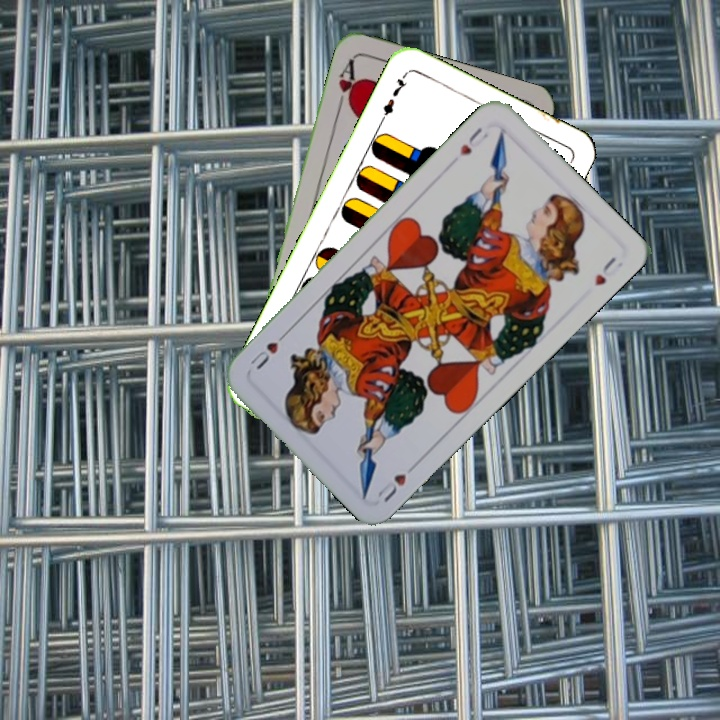E7: (376, 70, 410, 125)
HA: (333, 55, 361, 114)
HU: (373, 458, 421, 506), (455, 122, 491, 159)
